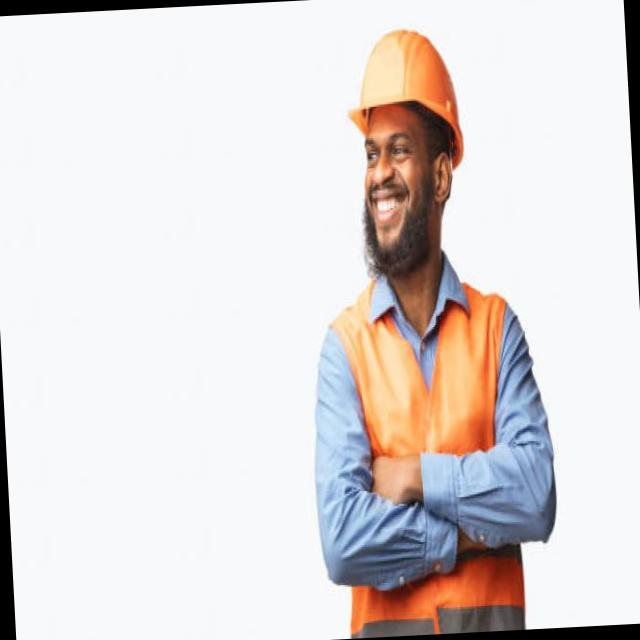Helmet: (344, 22, 476, 137)
Vest: (336, 267, 528, 639)
